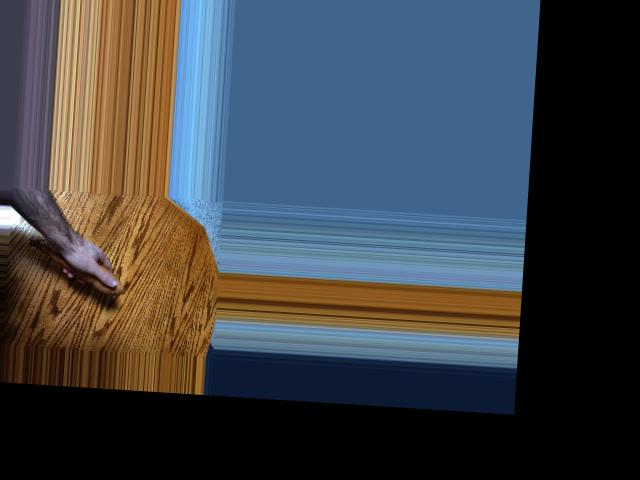sweet_potato: (23, 233, 122, 293)
